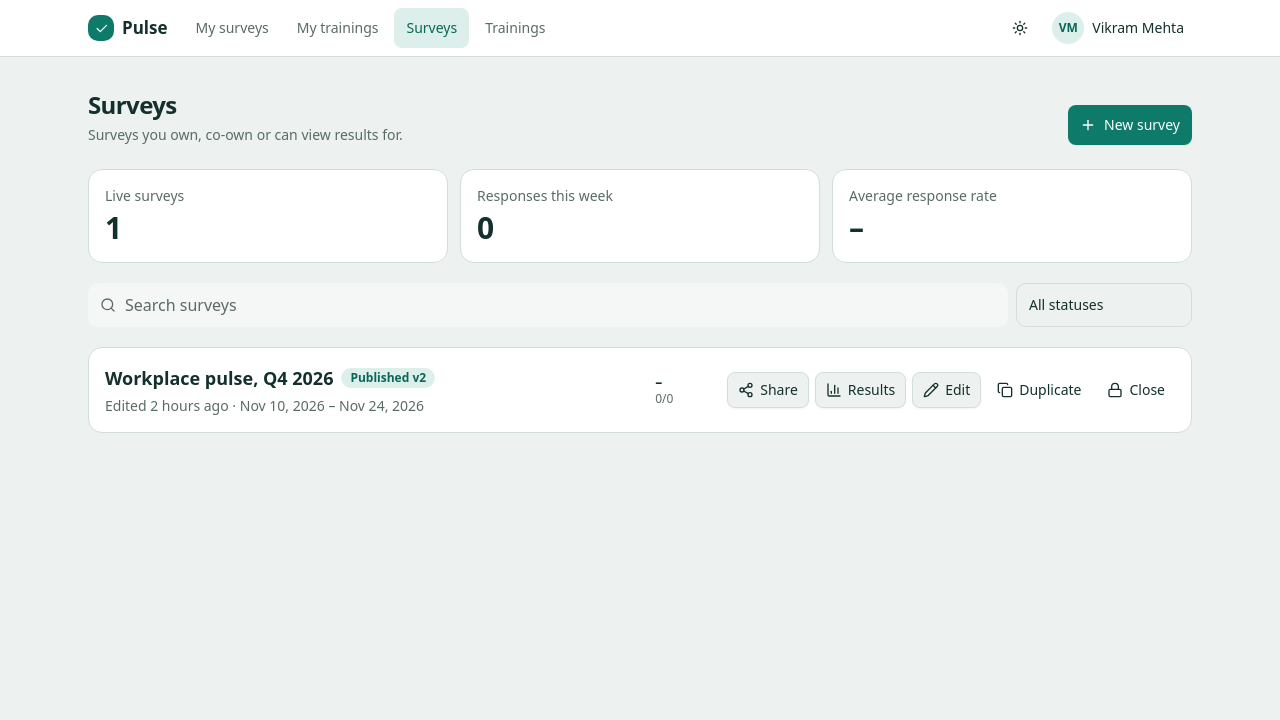
it: Surveys home › closes a published survey after confirming
Expected: the text "Published v2" is shown, [341,368,435,388]
Click the button with aria-label "Close Workplace pulse, Q4 2026": (1136, 390) [1098,372,1175,408]
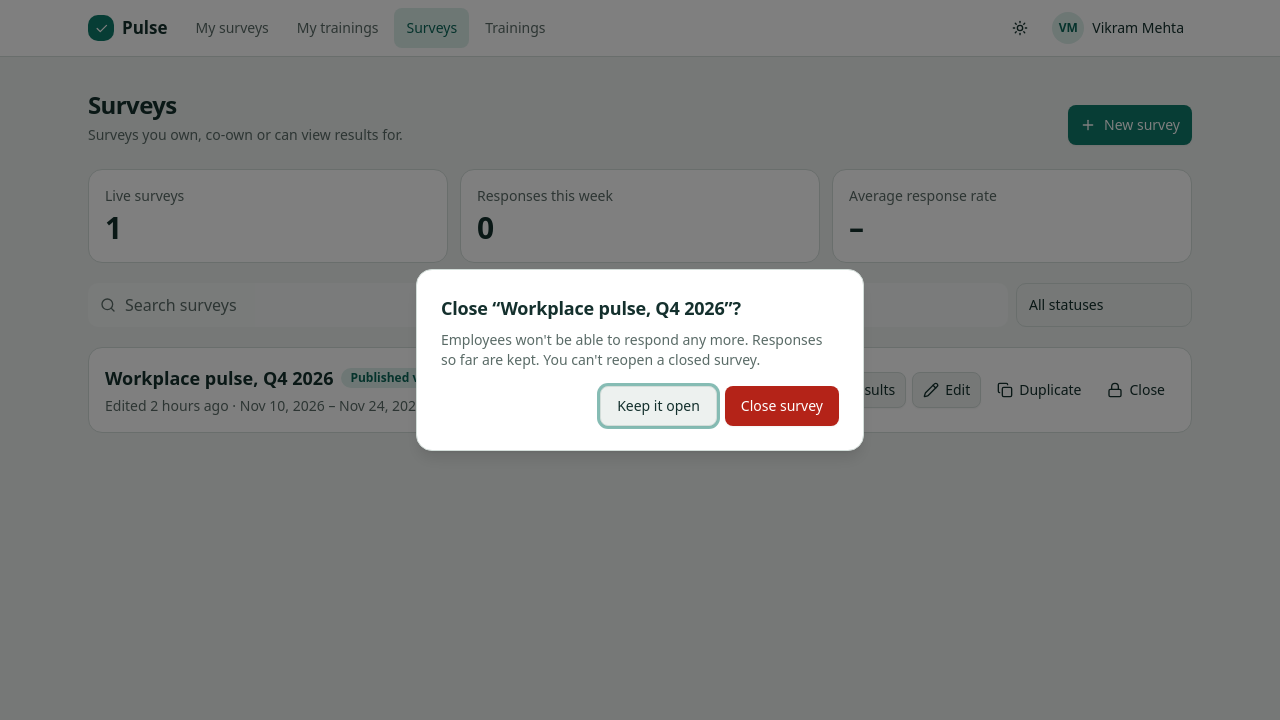
Click the button "Close survey": (782, 406) [725,386,839,426]
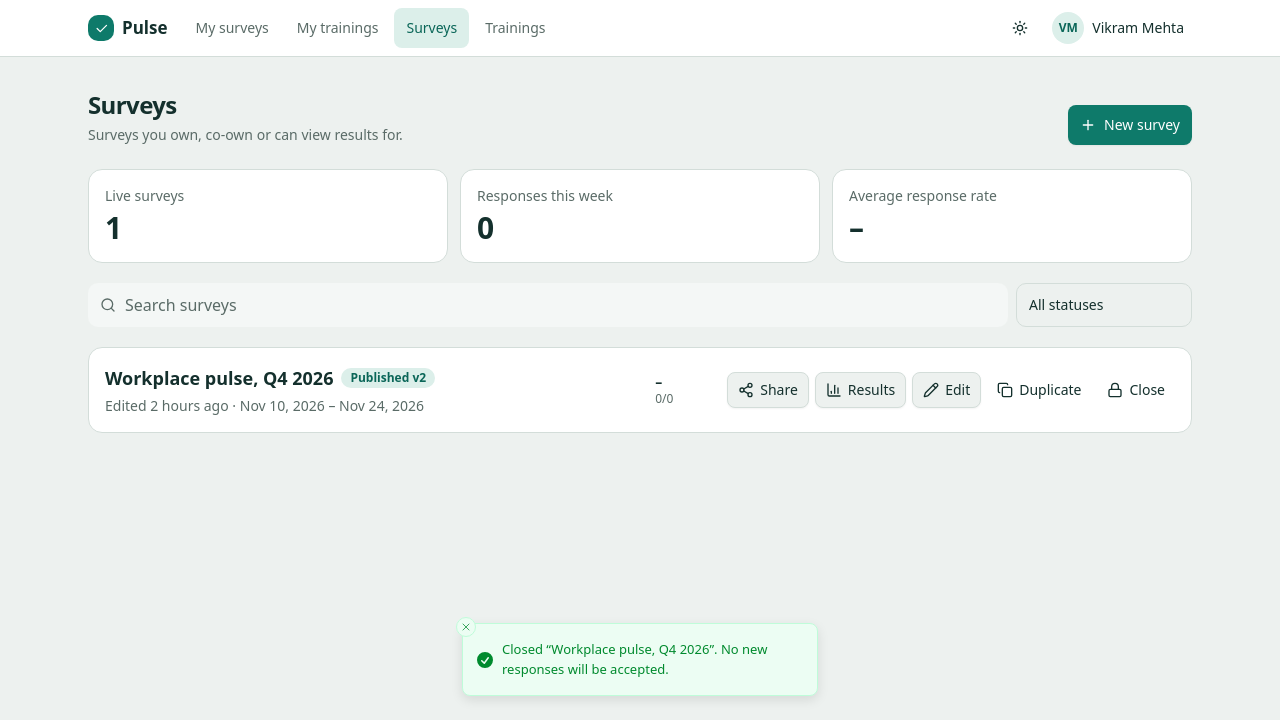
Now the text "Closed “Workplace pulse, Q4 2026”. No new responses will be accepted." is shown, box [502,640,801,679]
